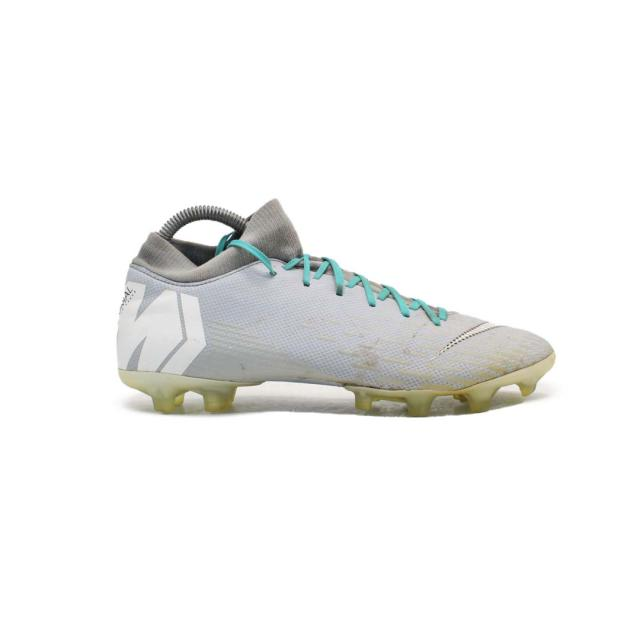heel: (117, 237, 196, 372)
midsole: (123, 352, 554, 417)
uppersole: (160, 201, 551, 385)
